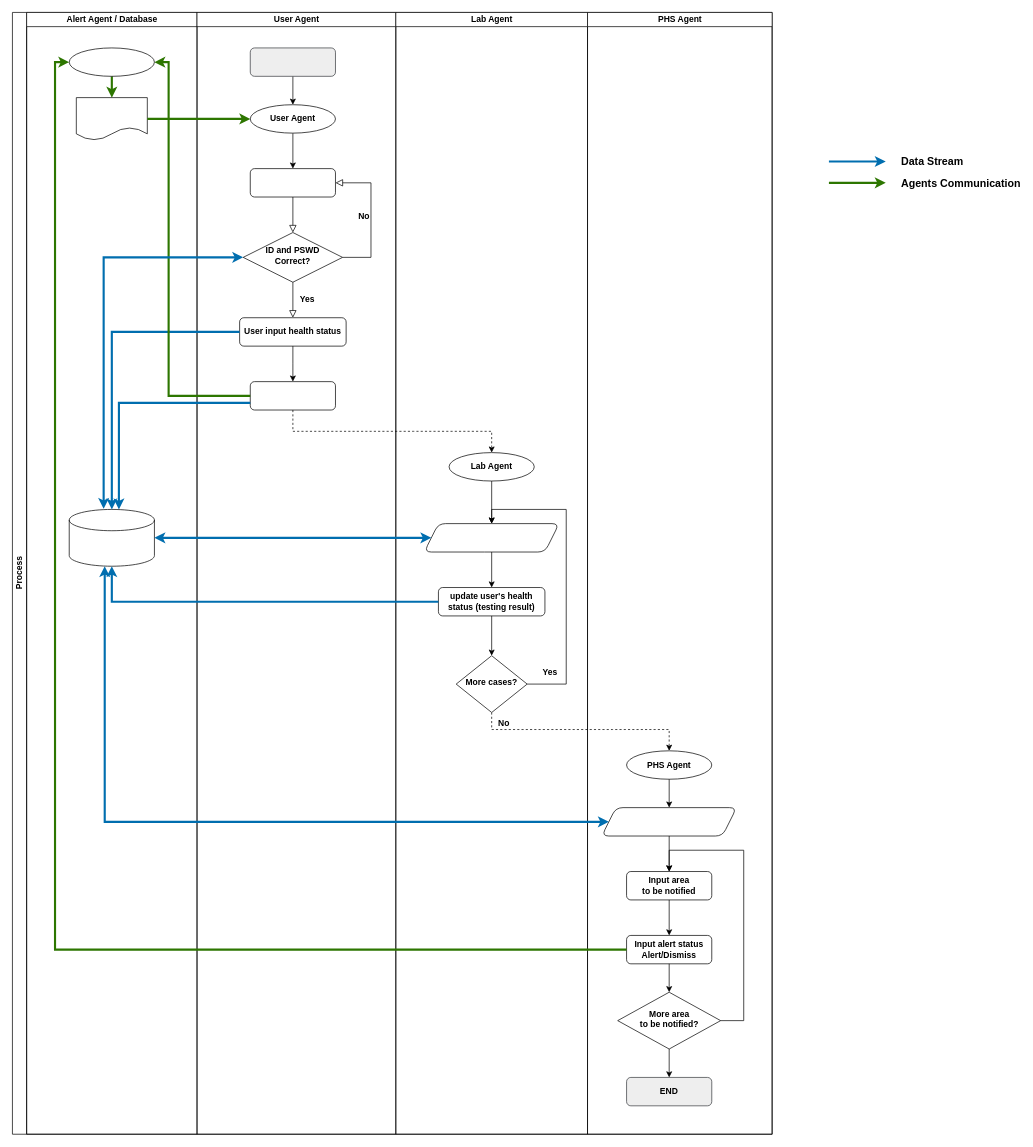
The diagram is 1033 pixels wide and 1147 high, and some of its shapes have lost their labels. The centre of each missing label's shape, as x and y in pixels:
"Alert Agent" goes at pixel 111 61.
"Alert Notification" goes at pixel 111 118.
"Database" goes at pixel 111 537.
"List Next Pending Case" goes at pixel 491 537.
"List Unchecked Cases" goes at pixel 669 821.
"START" goes at pixel 292 61.
"User input location" goes at pixel 292 395.
"User Login" goes at pixel 292 182.
